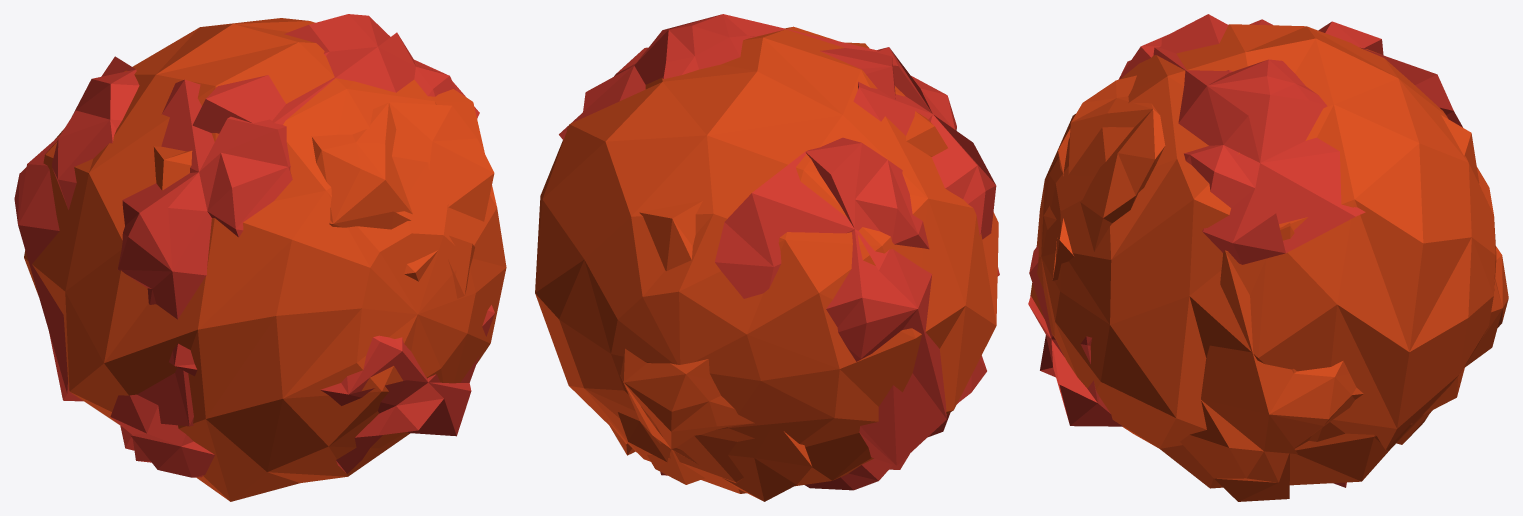
The picture shows the model from 3 angles, left to right: view 1: azimuth 30°, elevation 25°; view 2: azimuth 150°, elevation 25°; view 3: azimuth 270°, elevation 25°; orthographic projection.
Parts seen in each view (by area): view 1: node_MeshObject-1940003392-PolyPaper8; view 2: node_MeshObject-1940003392-PolyPaper8; view 3: node_MeshObject-1940003392-PolyPaper8.
Part boxes in pixels (x1,y1,x2,y2): node_MeshObject-1940003392-PolyPaper8: [14, 14, 506, 501]; node_MeshObject-1940003392-PolyPaper8: [535, 14, 999, 501]; node_MeshObject-1940003392-PolyPaper8: [1028, 14, 1508, 501].
Bounding box in the file's own units: 0.2694 × 0.2699 × 0.2793.
